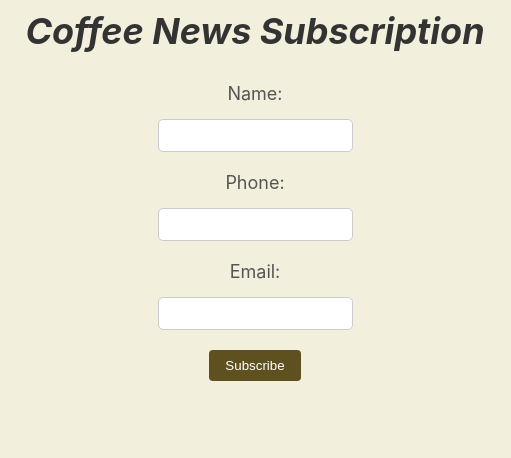
Test case: Subscriptions component › renders validation errors for an invalid form
The image size is (511, 458).
# Submit the form without filling in any fields
Click the button "Subscribe" at (255, 366), box [209, 350, 301, 381]
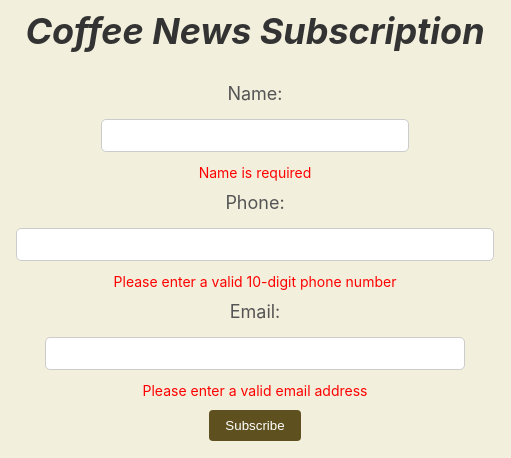
Expected: the text "Name is required" is shown, [199, 164, 311, 181]
Expected: the text "Please enter a valid 10-digit phone number" is shown, [114, 273, 396, 290]
Expected: the text "Please enter a valid email address" is shown, [142, 382, 368, 399]
